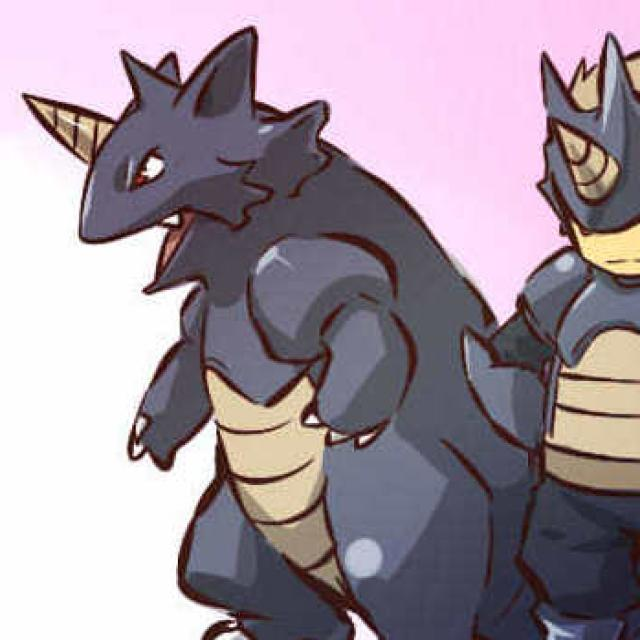Rhydon: (21, 25, 516, 640)
